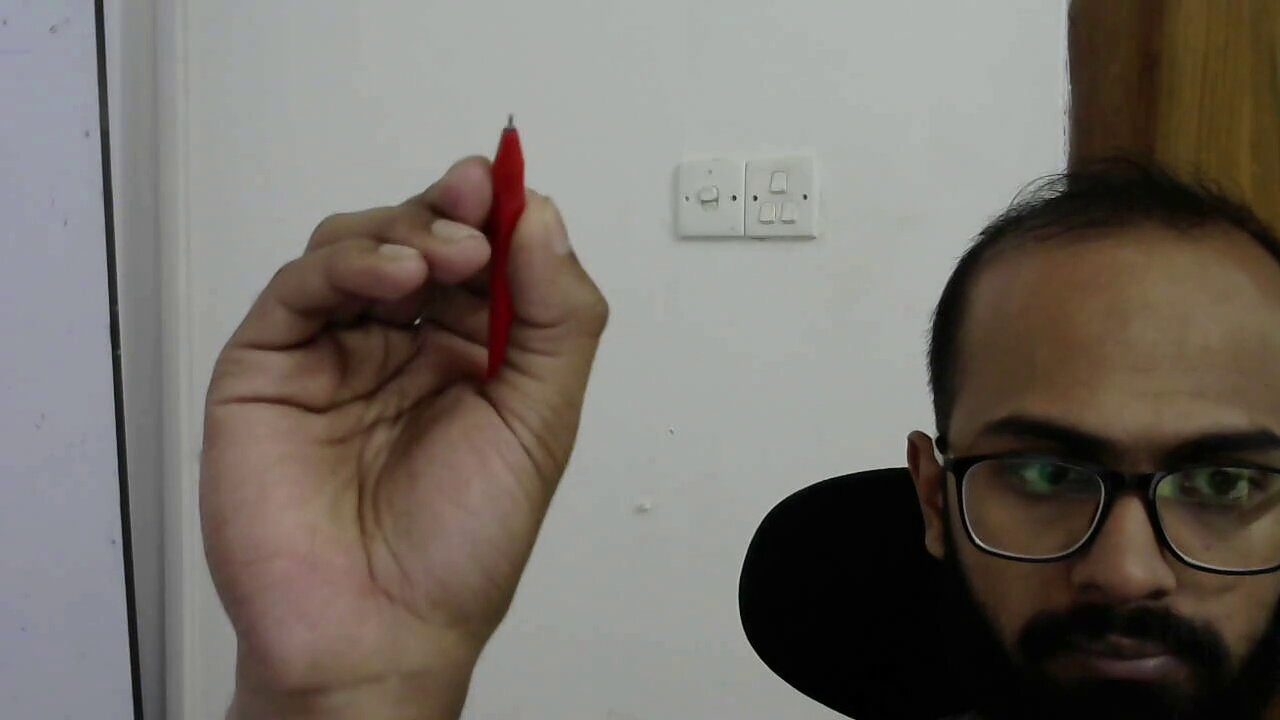pointer: (208, 155, 614, 544)
